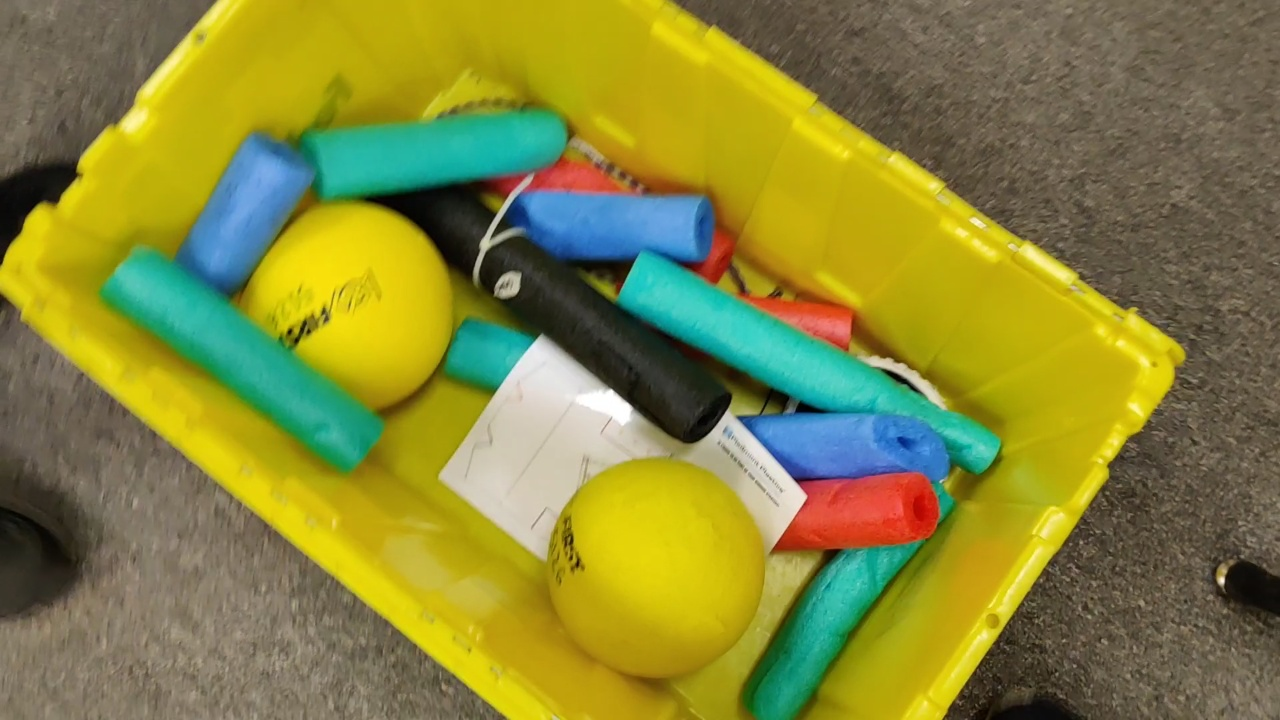Ball: (540, 456, 765, 682), (234, 202, 452, 413)
